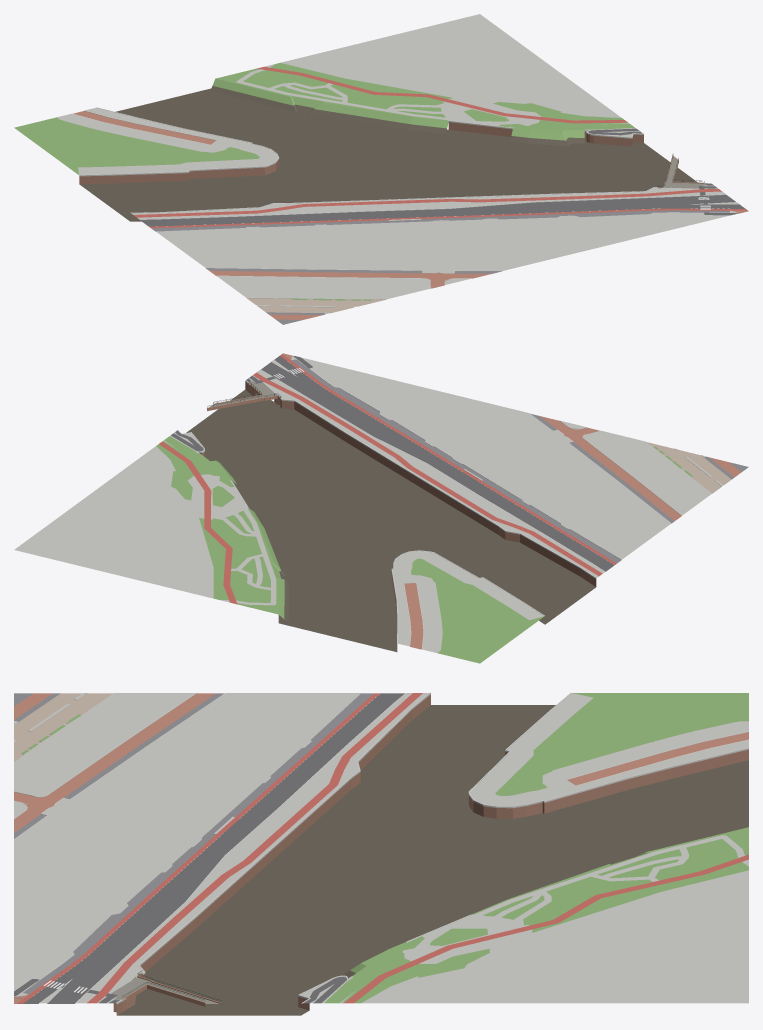
Rendered from ground_9_8.glb.
3 renders of one model, top to bottom at view 1: azimuth 30°, elevation 25°; view 2: azimuth 150°, elevation 25°; view 3: azimuth 270°, elevation 25°, orthographic. The views are drawn at different scales.
Parts seen in each view (by area): view 1: ground_9_8; view 2: ground_9_8; view 3: ground_9_8.
Part boxes in pixels (bbox=[...]): ground_9_8: bbox=[14, 14, 748, 324]; ground_9_8: bbox=[14, 353, 748, 663]; ground_9_8: bbox=[14, 692, 748, 1015].
Bounding box in the file's own units: 200 × 4.6 × 200.
